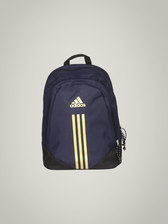bag: (41, 56, 135, 178)
